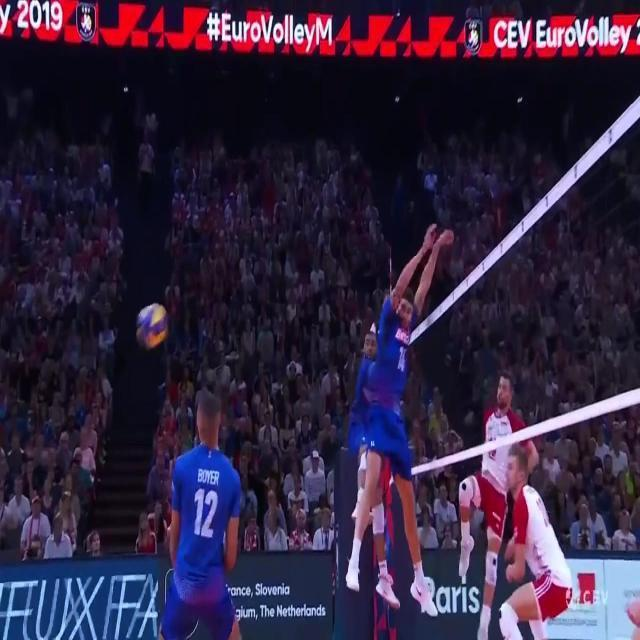volleyball: (136, 302, 170, 350)
